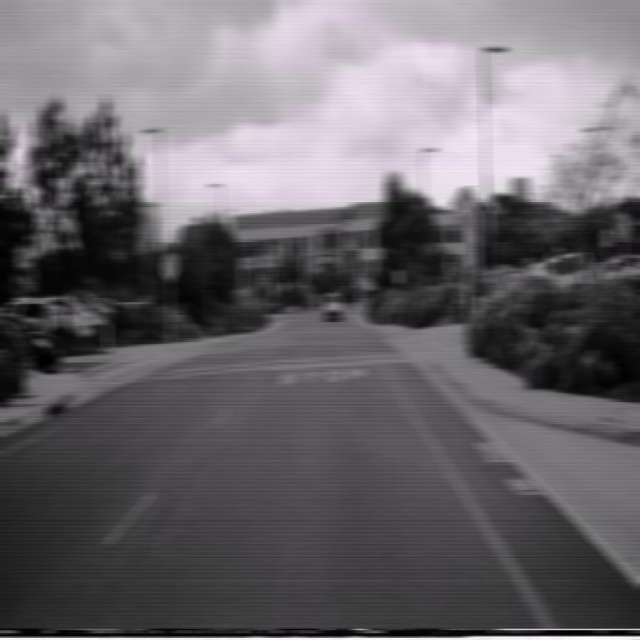stop: (454, 183, 477, 230)
